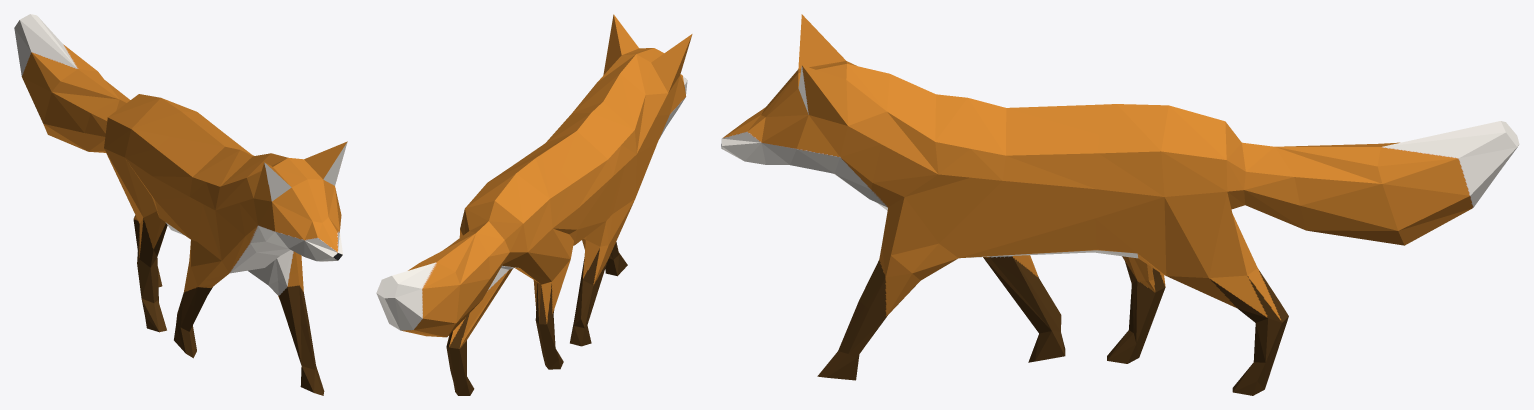
File: Fox.glb
3 renders of one model, left to right at view 1: azimuth 30°, elevation 25°; view 2: azimuth 150°, elevation 25°; view 3: azimuth 270°, elevation 25°, orthographic. The views are drawn at different scales.
Visible parts, largest first — view 1: Fox_vat; view 2: Fox_vat; view 3: Fox_vat.
Boxes of the visible parts, left/top/right/bottom form: Fox_vat: left=14, top=14, right=347, bottom=395; Fox_vat: left=376, top=14, right=692, bottom=395; Fox_vat: left=721, top=14, right=1519, bottom=395.
Size of the model in its own units: 25.19 by 76.88 by 165.
1 material, 1 textured.
